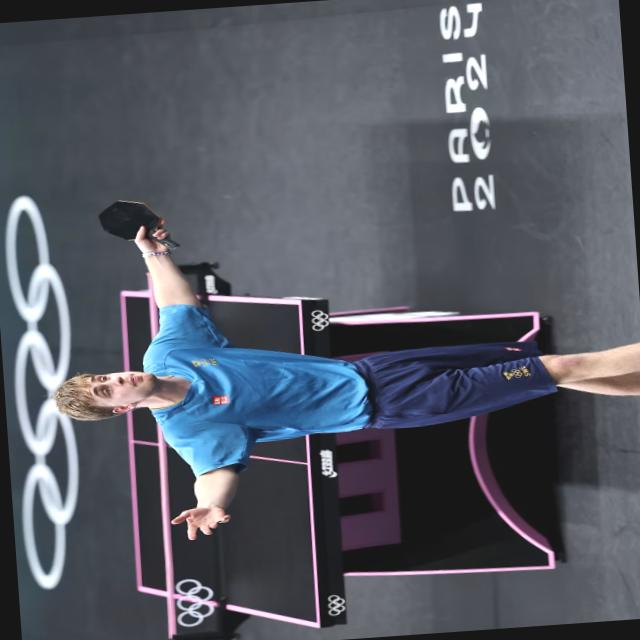TT Net: (144, 259, 232, 640)
TT Racket: (89, 193, 190, 254)
TT Table: (121, 278, 320, 639)
